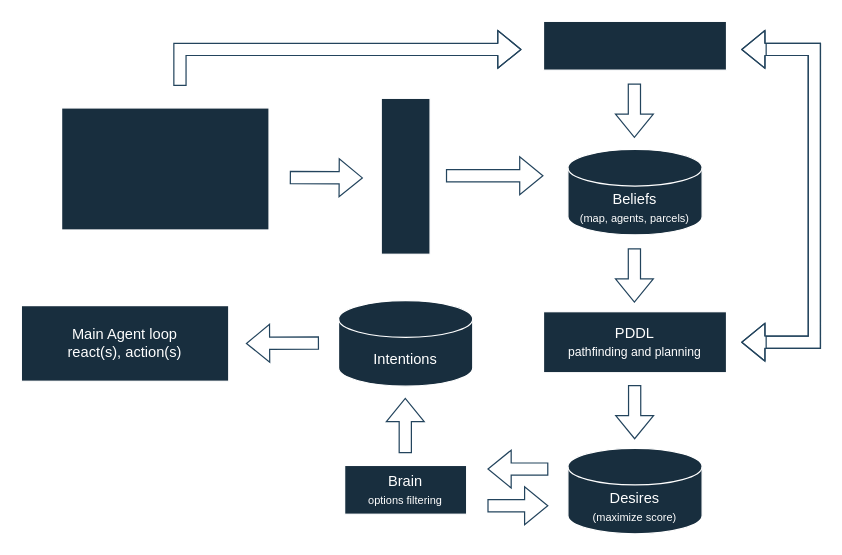
This 842x555 diagram has some shape labels left out. Here are the shapes that lost their labels. From the top down, the centre of each, then its label:
point 634,45: Cache (Plan Library)
point 164,168: Queue of events percepts from environment
point 405,175: Sensing functions
